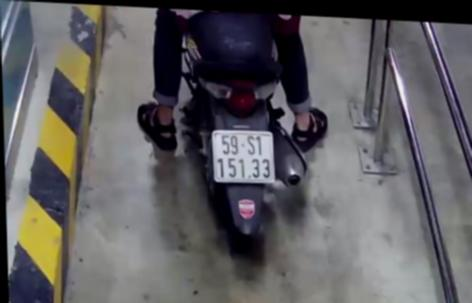License_Plate: (207, 128, 280, 188)
